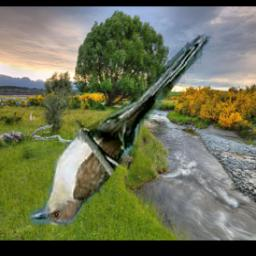Cuckoo: (26, 27, 212, 228)
